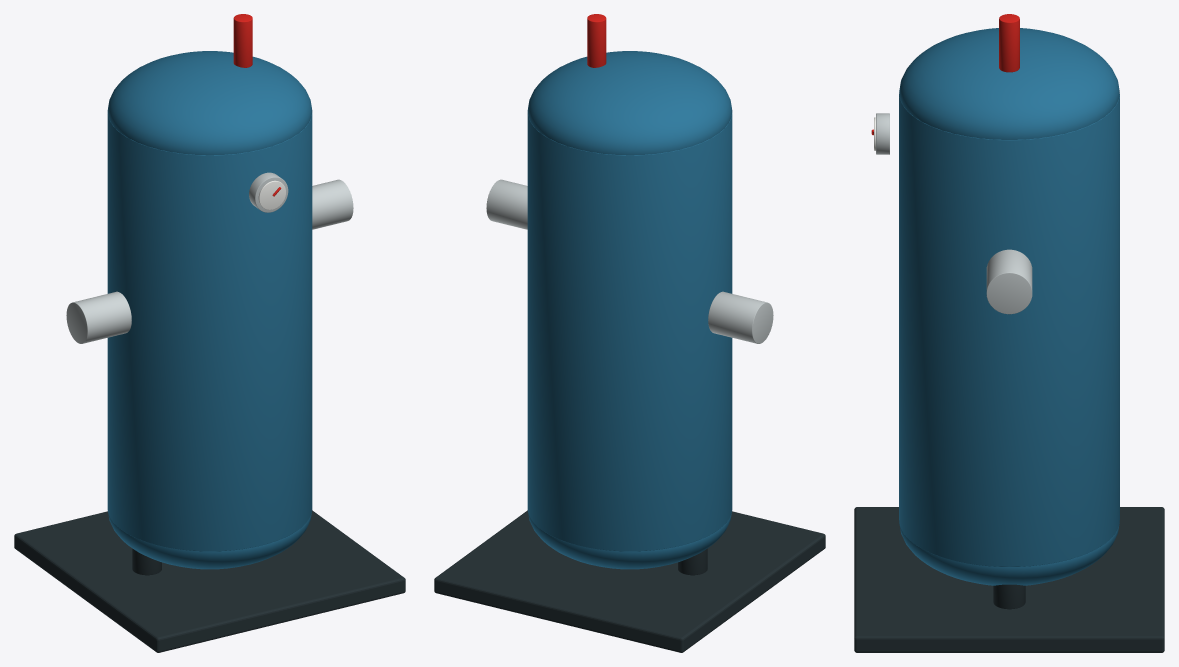
Rendered from vertical_air_receiver.glb.
3 views of the same model, side by side, from view 1: azimuth 30°, elevation 25°; view 2: azimuth 150°, elevation 25°; view 3: azimuth 270°, elevation 25° (orthographic). The views are drawn at different scales.
Visible parts, largest first — view 1: RECEIVER_SHELL, BASE, TOP_HEAD, BOTTOM_HEAD, AIR_INLET, AIR_OUTLET, SAFETY_RELIEF, GAUGE_BODY, GAUGE_FACE; view 2: RECEIVER_SHELL, BASE, TOP_HEAD, BOTTOM_HEAD, AIR_INLET, AIR_OUTLET, SAFETY_RELIEF; view 3: RECEIVER_SHELL, BASE, TOP_HEAD, BOTTOM_HEAD, AIR_OUTLET, SAFETY_RELIEF, LEG_0.34, GAUGE_BODY.
Boxes of the visible parts, x1,y1,x2,y2 form: RECEIVER_SHELL: [107, 113, 312, 551]; BASE: [14, 510, 405, 652]; TOP_HEAD: [107, 51, 312, 155]; BOTTOM_HEAD: [108, 512, 311, 569]; AIR_INLET: [66, 291, 131, 343]; AIR_OUTLET: [312, 179, 353, 229]; SAFETY_RELIEF: [233, 14, 252, 67]; GAUGE_BODY: [249, 172, 288, 212]; GAUGE_FACE: [258, 180, 285, 209]; RECEIVER_SHELL: [527, 113, 732, 551]; BASE: [434, 510, 825, 652]; TOP_HEAD: [527, 51, 732, 155]; BOTTOM_HEAD: [528, 512, 731, 569]; AIR_INLET: [708, 291, 773, 343]; AIR_OUTLET: [486, 179, 527, 229]; SAFETY_RELIEF: [587, 14, 606, 67]; RECEIVER_SHELL: [899, 94, 1119, 566]; BASE: [854, 507, 1164, 652]; TOP_HEAD: [899, 28, 1119, 139]; BOTTOM_HEAD: [899, 523, 1119, 585]; AIR_OUTLET: [986, 249, 1032, 314]; SAFETY_RELIEF: [999, 14, 1019, 72]; LEG_0.34: [993, 584, 1025, 609]; GAUGE_BODY: [876, 113, 889, 154].
Size of the model in its own units: 1.44 by 2.87 by 1.35.
